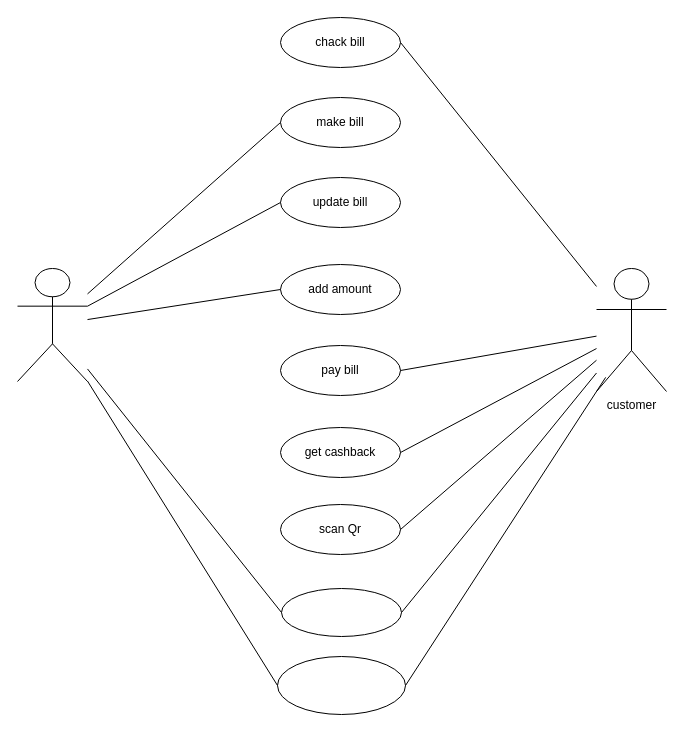
The diagram is 684 pixels wide and 732 high, and some of its shapes have lost their labels. The centre of each missing label's shape, as x and y in pixels:
chack payment: point (341, 612)
login and logout from thir account: point (341, 685)
supplier: point (52, 325)
